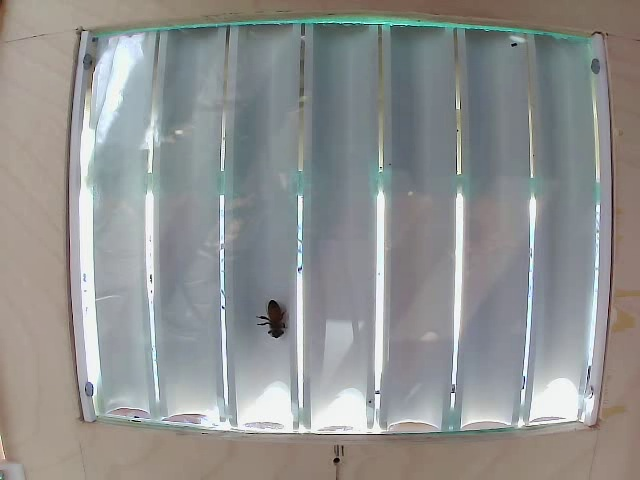bee: (254, 297, 288, 333)
